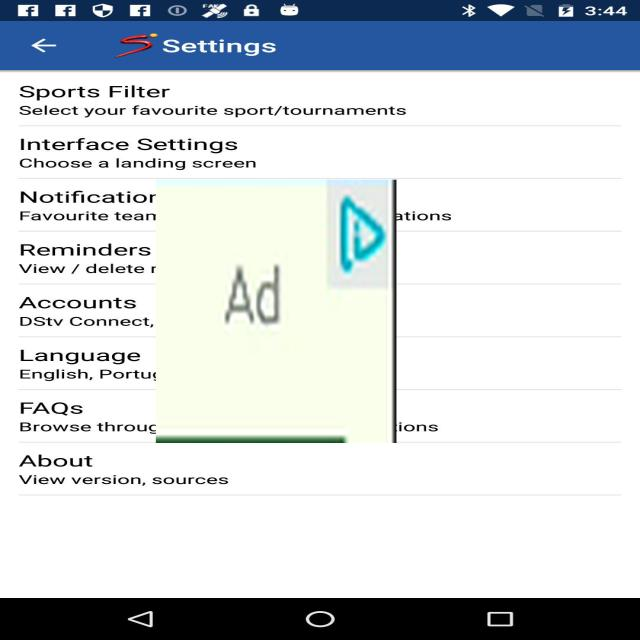sneaking: (156, 180, 396, 443)
